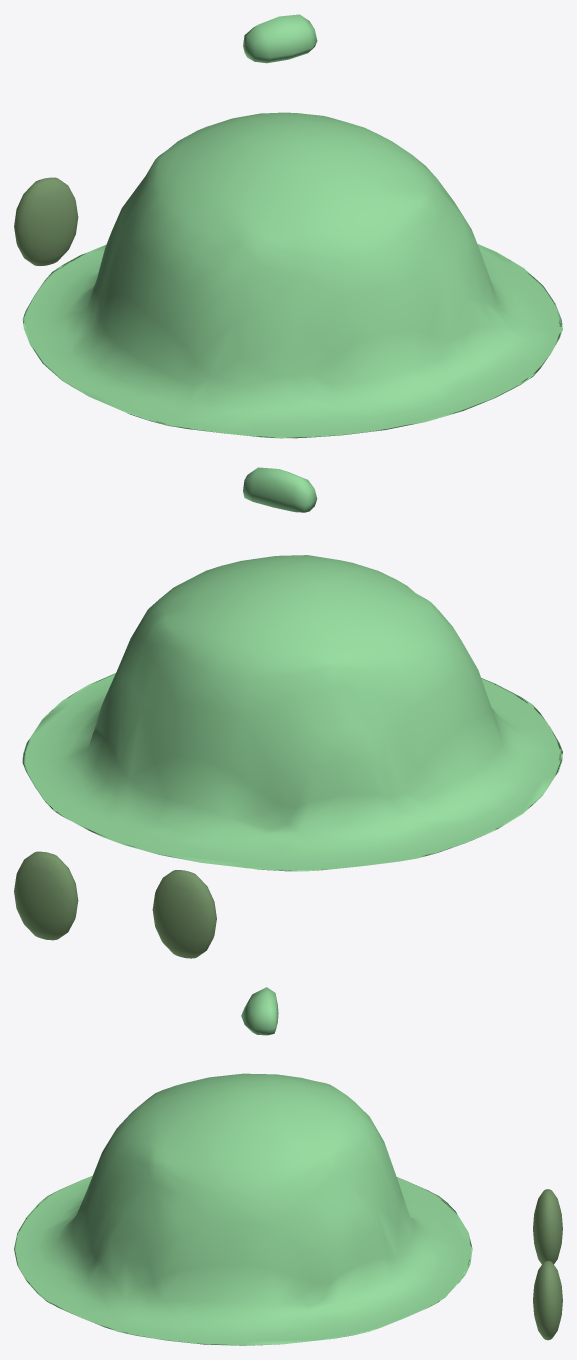
Rendered from slime_monster.glb.
3 views of the same model, one above another, from view 1: azimuth 30°, elevation 25°; view 2: azimuth 150°, elevation 25°; view 3: azimuth 270°, elevation 25° (orthographic). The views are drawn at different scales.
Parts seen in each view (by area): view 1: SlimeBody, SlimeEyes; view 2: SlimeBody, SlimeEyes; view 3: SlimeBody, SlimeEyes.
Boxes of the visible parts, x1=… form: SlimeBody: x1=22, y1=14, x2=562, y2=438; SlimeEyes: x1=14, y1=177, x2=78, y2=265; SlimeBody: x1=22, y1=467, x2=562, y2=871; SlimeEyes: x1=14, y1=851, x2=216, y2=958; SlimeBody: x1=14, y1=987, x2=472, y2=1345; SlimeEyes: x1=533, y1=1189, x2=562, y2=1340.
Bounding box in the file's own units: 0.9323 × 0.7251 × 1.12.
